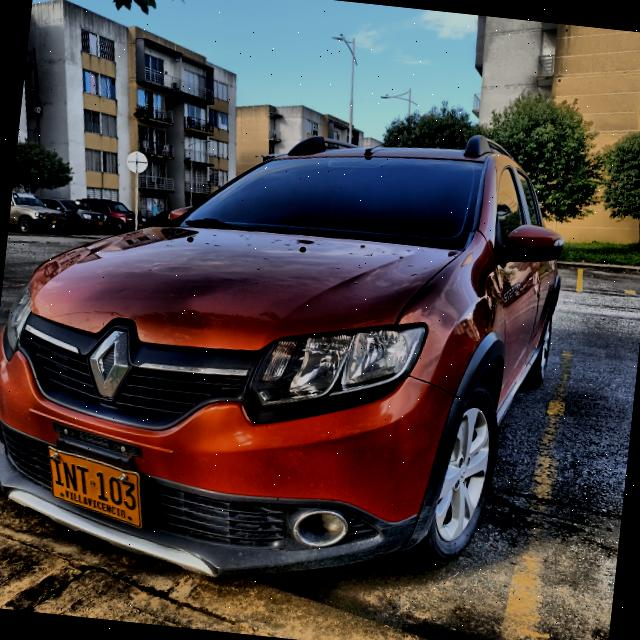0: (107, 475, 123, 507)
1: (95, 468, 109, 503)
3: (120, 478, 136, 512)
I: (50, 457, 65, 486)
N: (62, 460, 78, 492)
T: (75, 463, 89, 496)
